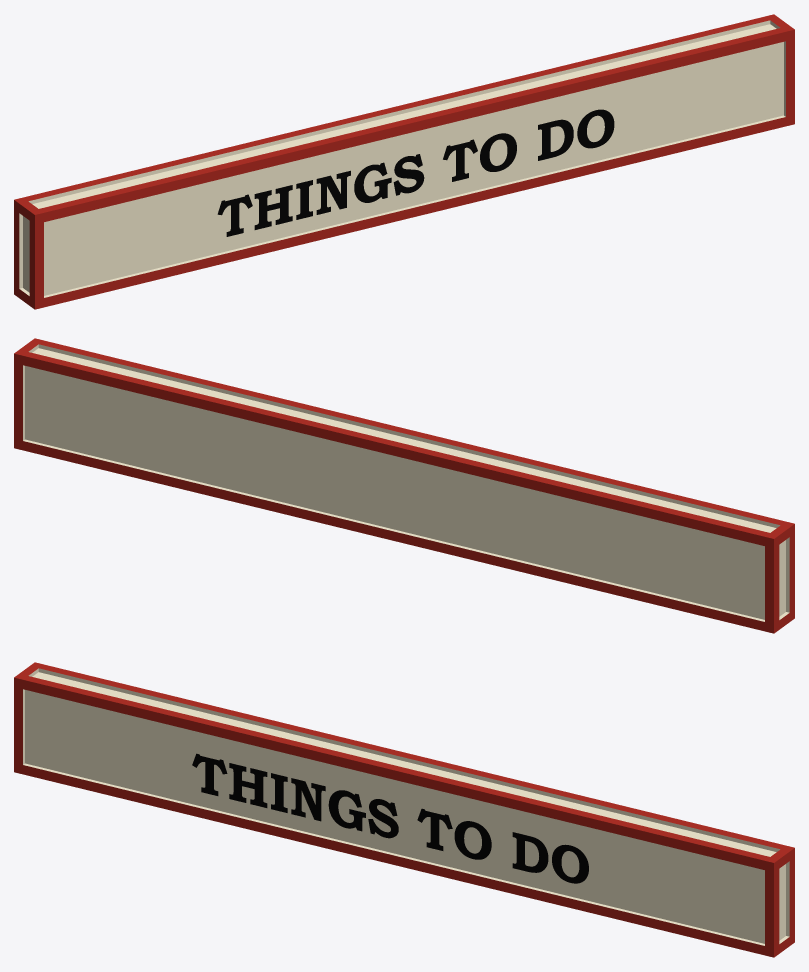
The model's file is thingsToDo.glb.
The picture shows the model from 3 angles, top to bottom: view 1: azimuth 30°, elevation 25°; view 2: azimuth 150°, elevation 25°; view 3: azimuth 330°, elevation 25°; orthographic projection.
Visible parts, largest first — view 1: ButtonBase, ButtonText; view 2: ButtonBase; view 3: ButtonBase, ButtonText.
Part boxes in pixels (box(x1,y1,x2,y2)): ButtonBase: box(14, 14, 794, 309); ButtonText: box(217, 109, 614, 236); ButtonBase: box(14, 338, 794, 633); ButtonBase: box(14, 662, 794, 957); ButtonText: box(192, 753, 588, 883).
Bounding box in the file's own units: 10.5 × 1.25 × 0.5538.
